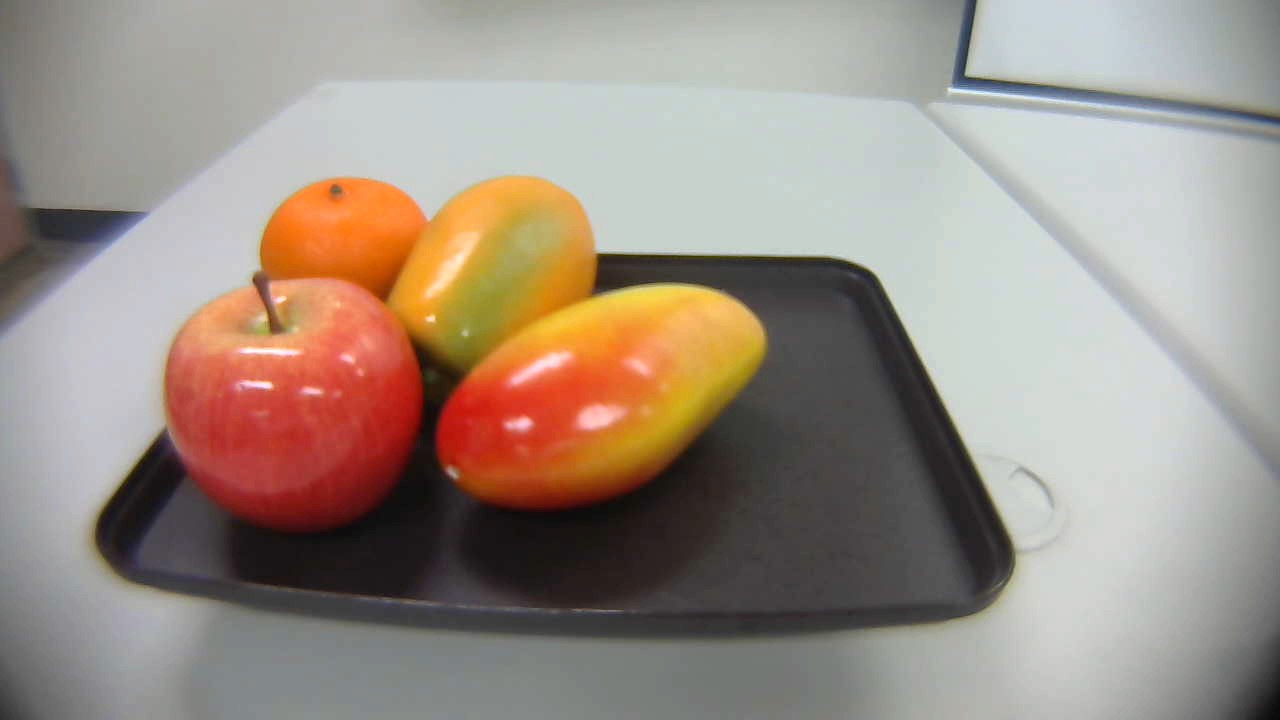orange: (257, 179, 437, 319)
papya: (377, 166, 605, 369)
red apple: (155, 266, 423, 536)
red mango: (425, 278, 775, 499)
